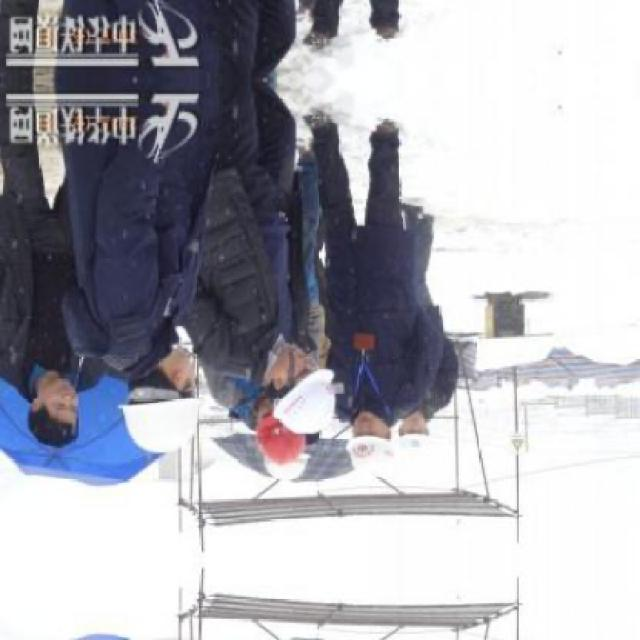con casco: (119, 349, 220, 451), (266, 337, 341, 438), (334, 411, 395, 483)
